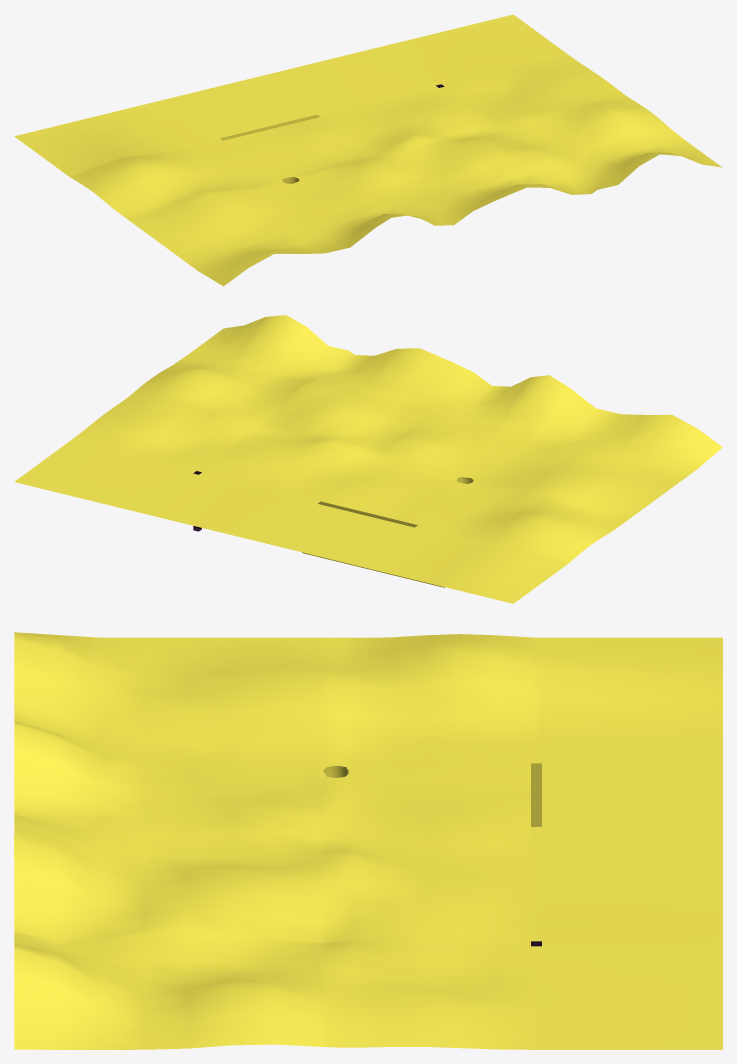
File: LVL5_Plains.fbx
3 renders of one model, top to bottom at view 1: azimuth 30°, elevation 25°; view 2: azimuth 150°, elevation 25°; view 3: azimuth 270°, elevation 25°, orthographic. The views are drawn at different scales.
Visible parts, largest first — view 1: Plains, CurveCave; view 2: Plains, CurveCave; view 3: Plains, CurveCave.
Part boxes in pixels (left/top/right/bottom): Plains: left=14, top=14, right=722, bottom=286; CurveCave: left=220, top=114, right=319, bottom=183; Plains: left=14, top=315, right=722, bottom=603; CurveCave: left=302, top=477, right=473, bottom=587; Plains: left=14, top=632, right=722, bottom=1049; CurveCave: left=323, top=763, right=541, bottom=843.
Size of the model in its own units: 654131 by 112393 by 475556.
